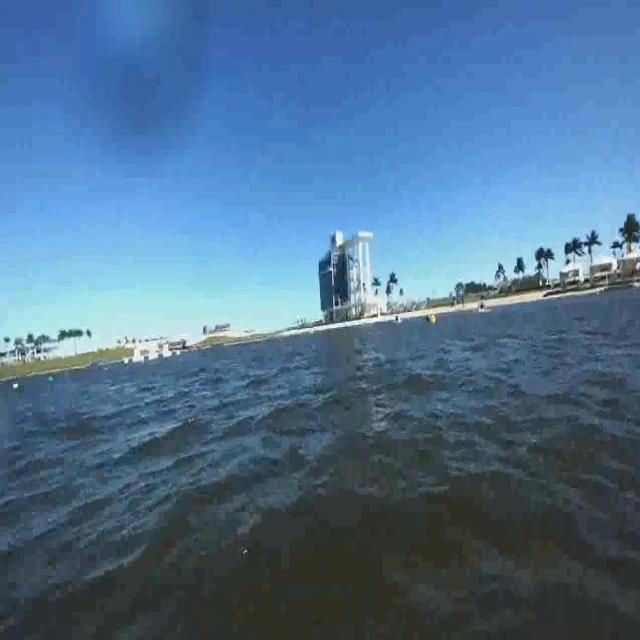yellow-buoy: (429, 314, 437, 326)
